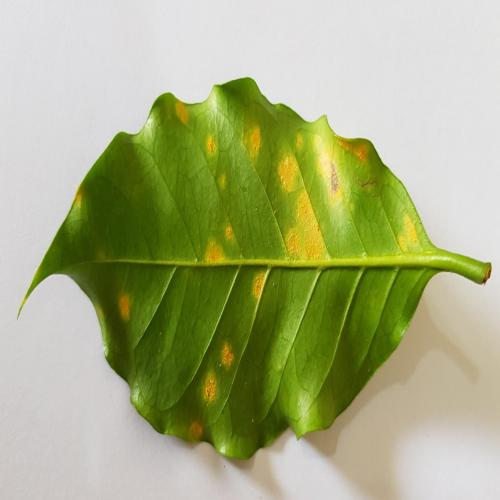phoma: (175, 96, 194, 124)
